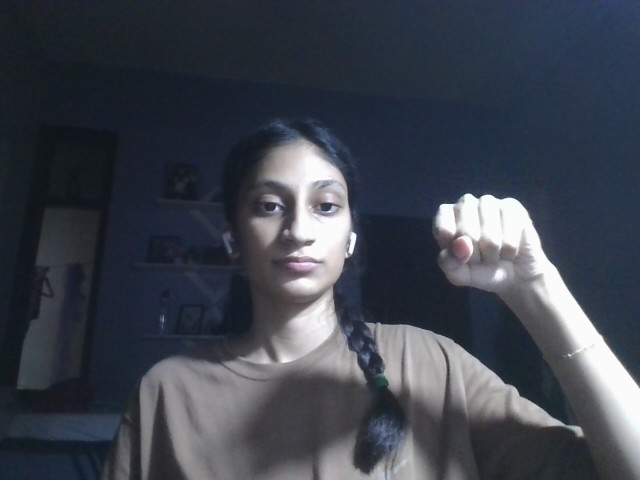yes: (420, 190, 556, 297)
